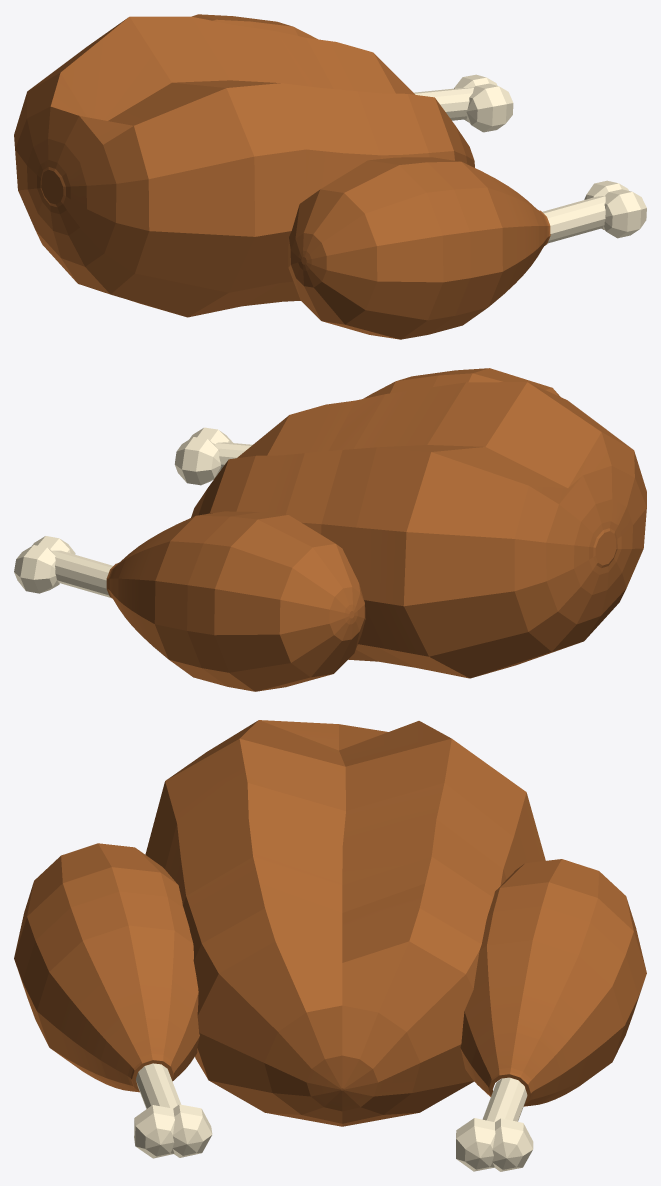
The model's file is chicken.glb.
The picture shows the model from 3 angles, top to bottom: view 1: azimuth 30°, elevation 25°; view 2: azimuth 150°, elevation 25°; view 3: azimuth 270°, elevation 25°; orthographic projection. The views are drawn at different scales.
Visible parts, largest first — view 1: Chicken; view 2: Chicken; view 3: Chicken.
Boxes of the visible parts, x1,y1,x2,y2 form: Chicken: (14, 14, 646, 339); Chicken: (14, 368, 646, 691); Chicken: (14, 720, 646, 1171).
Size of the model in its own units: 0.8464 by 0.4086 by 0.8122.
